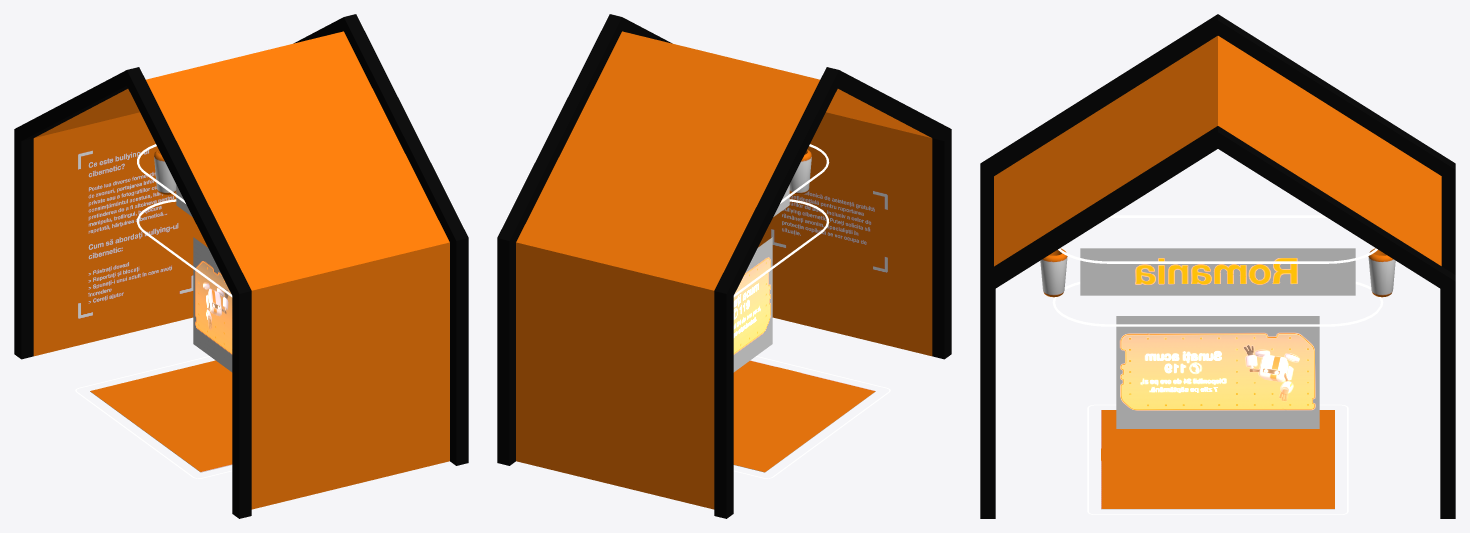
Rendered from Orange_SafeContactZone_ROM_V1.fbx.
3 views of the same model, side by side, from view 1: azimuth 30°, elevation 25°; view 2: azimuth 150°, elevation 25°; view 3: azimuth 270°, elevation 25° (orthographic). The views are drawn at different scales.
Parts seen in each view (by area): view 1: Object_4_remesh, Object_4_remesh_3, Null_1, Object_4_remesh_2, Plane_1, Object_4_remesh_1, Cylinder_1_1; view 2: Object_4_remesh_1, Object_4_remesh_2, Null_1, Object_4_remesh_3, Plane_1, Object_4_remesh, Cylinder_1; view 3: Null_1, Plane_1, Object_4_remesh, Object_4_remesh_1, Plane, Sweep_1, Sweep_2, Cylinder_1, Cylinder_1_1.
Part boxes in pixels (x1,y1,x2,y2): Object_4_remesh: [146, 31, 449, 290]; Object_4_remesh_3: [251, 242, 449, 509]; Null_1: [14, 14, 468, 518]; Object_4_remesh_2: [33, 112, 207, 356]; Plane_1: [193, 237, 232, 372]; Object_4_remesh_1: [34, 89, 139, 137]; Cylinder_1_1: [154, 149, 176, 194]; Object_4_remesh_1: [516, 31, 819, 290]; Object_4_remesh_2: [516, 242, 714, 509]; Null_1: [497, 14, 951, 518]; Object_4_remesh_3: [758, 112, 932, 356]; Plane_1: [733, 237, 772, 372]; Object_4_remesh: [826, 89, 931, 137]; Cylinder_1: [789, 149, 811, 194]; Null_1: [980, 14, 1455, 518]; Plane_1: [1116, 316, 1319, 428]; Object_4_remesh: [994, 36, 1217, 266]; Object_4_remesh_1: [1218, 36, 1441, 265]; Plane: [1080, 248, 1355, 295]; Sweep_1: [1058, 215, 1377, 263]; Sweep_2: [1052, 281, 1383, 326]; Cylinder_1: [1040, 248, 1067, 297]; Cylinder_1_1: [1368, 248, 1395, 297].
Bounding box in the file's own units: 701 × 1070 × 1191.
1 material, 1 textured.
